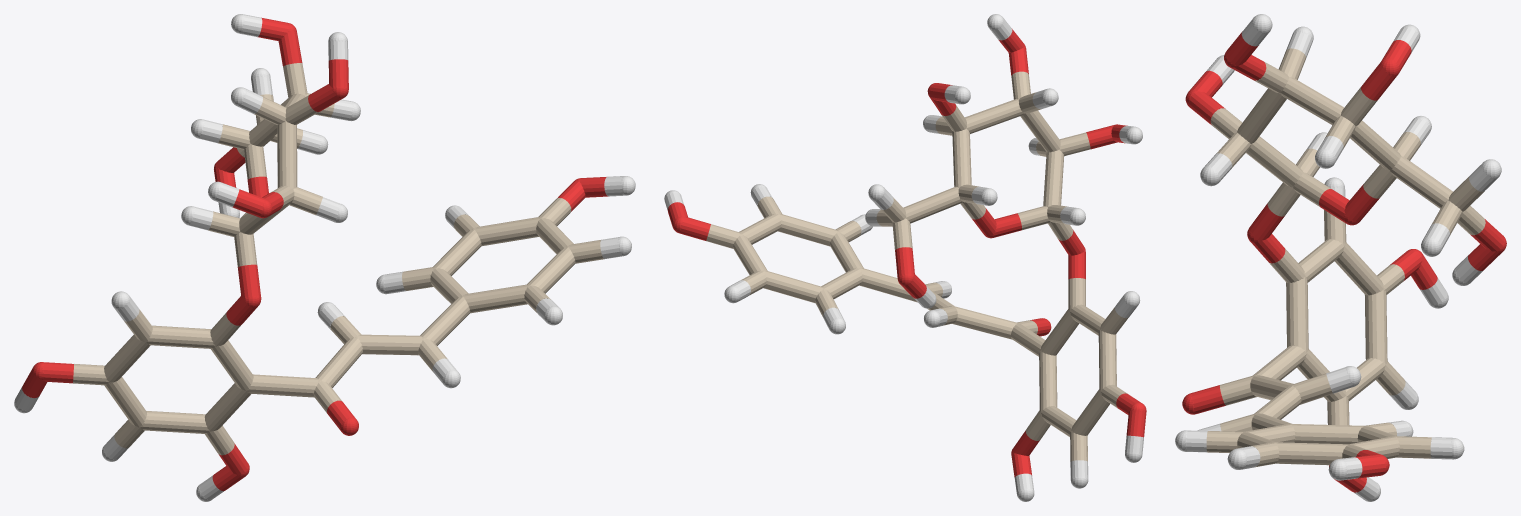
Rendered from isosaliipurposide 1.fbx.
The picture shows the model from 3 angles, left to right: view 1: azimuth 30°, elevation 25°; view 2: azimuth 150°, elevation 25°; view 3: azimuth 270°, elevation 25°; orthographic projection. The views are drawn at different scales.
Visible parts, largest first — view 1: Shape_Cylinder.060, Shape_Cylinder.039, Shape_Cylinder.058, Shape_Cylinder.064, Shape_Cylinder.083, Shape_Cylinder.076, Shape_Cylinder.069, Shape_Cylinder.066, Shape_Cylinder.072, Shape_Cylinder.059, Shape_Cylinder.061, Shape_Cylinder.080 (+6 smaller); view 2: Shape_Cylinder.066, Shape_Cylinder.048, Shape_Cylinder.038, Shape_Cylinder.077, Shape_Cylinder.080, Shape_Cylinder.042, Shape_Cylinder.045, Shape_Cylinder.059, Shape_Cylinder.061, Shape_Cylinder.072, Shape_Cylinder.039, Shape_Cylinder.065 (+11 smaller); view 3: Shape_Cylinder.065, Shape_Cylinder.057, Shape_Cylinder.086, Shape_Cylinder.048, Shape_Cylinder.038, Shape_Cylinder.045, Shape_Cylinder.075, Shape_Cylinder.039, Shape_Cylinder.061, Shape_Cylinder.042, Shape_Cylinder.058, Shape_Cylinder.060 (+61 smaller).
Part boxes in pixels (x1=…): Shape_Cylinder.060: x1=247, y1=374, x2=319, y2=397; Shape_Cylinder.039: x1=277, y1=121, x2=297, y2=189; Shape_Cylinder.058: x1=146, y1=325, x2=215, y2=348; Shape_Cylinder.064: x1=140, y1=411, x2=209, y2=433; Shape_Cylinder.083: x1=474, y1=217, x2=539, y2=246; Shape_Cylinder.076: x1=463, y1=284, x2=528, y2=313; Shape_Cylinder.069: x1=358, y1=334, x2=423, y2=355; Shape_Cylinder.066: x1=315, y1=337, x2=362, y2=387; Shape_Cylinder.072: x1=420, y1=296, x2=470, y2=345; Shape_Cylinder.059: x1=204, y1=383, x2=250, y2=431; Shape_Cylinder.061: x1=104, y1=335, x2=150, y2=382; Shape_Cylinder.080: x1=527, y1=247, x2=575, y2=293; Shape_Cylinder.066: x1=952, y1=306, x2=1017, y2=339; Shape_Cylinder.048: x1=903, y1=186, x2=963, y2=223; Shape_Cylinder.038: x1=964, y1=99, x2=1024, y2=133; Shape_Cylinder.077: x1=763, y1=271, x2=823, y2=303; Shape_Cylinder.080: x1=778, y1=214, x2=838, y2=246; Shape_Cylinder.042: x1=952, y1=128, x2=971, y2=187; Shape_Cylinder.045: x1=1043, y1=150, x2=1064, y2=207; Shape_Cylinder.059: x1=1039, y1=351, x2=1057, y2=411; Shape_Cylinder.061: x1=1098, y1=330, x2=1116, y2=390; Shape_Cylinder.072: x1=859, y1=268, x2=916, y2=302; Shape_Cylinder.039: x1=1020, y1=110, x2=1060, y2=152; Shape_Cylinder.065: x1=1071, y1=389, x2=1109, y2=435; Shape_Cylinder.065: x1=1364, y1=289, x2=1387, y2=364; Shape_Cylinder.057: x1=1286, y1=277, x2=1308, y2=351; Shape_Cylinder.086: x1=1276, y1=442, x2=1348, y2=465; Shape_Cylinder.048: x1=1390, y1=156, x2=1452, y2=208; Shape_Cylinder.038: x1=1280, y1=77, x2=1344, y2=125; Shape_Cylinder.045: x1=1246, y1=136, x2=1303, y2=187; Shape_Cylinder.075: x1=1292, y1=424, x2=1364, y2=444; Shape_Cylinder.039: x1=1237, y1=88, x2=1286, y2=143; Shape_Cylinder.061: x1=1334, y1=242, x2=1384, y2=295; Shape_Cylinder.042: x1=1350, y1=120, x2=1401, y2=170; Shape_Cylinder.058: x1=1298, y1=239, x2=1344, y2=282; Shape_Cylinder.060: x1=1252, y1=345, x2=1306, y2=380.
Size of the model in its own units: 1336 by 1077 by 611.
